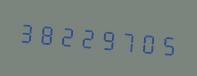eight: (37, 14, 56, 52)
five: (157, 25, 176, 62)
nine: (97, 19, 116, 57)
seven: (117, 21, 136, 59)
three: (17, 12, 36, 50)
two: (57, 16, 76, 53), (77, 18, 96, 55)
zero: (137, 23, 156, 60)
